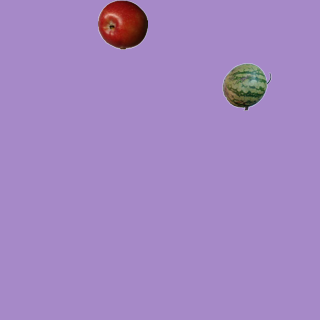Apple Braeburn: (97, 0, 147, 49)
Watermelon: (221, 61, 271, 111)
